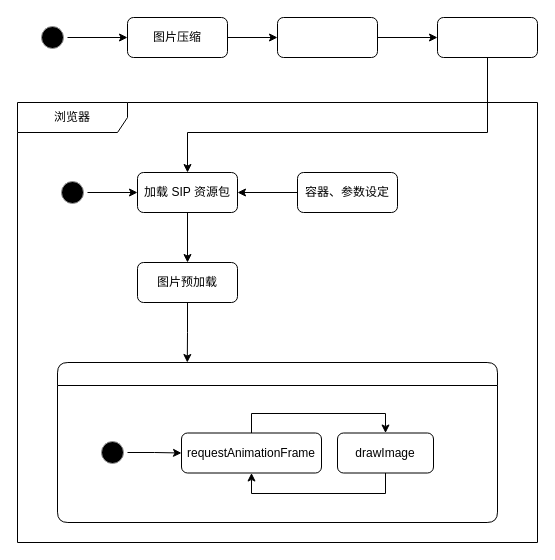
This 555x560 diagram has some shape labels left out. The shapes that lost their labels are listed below. From the top down, each one's box as (x1, y1, x2, y2) in pixels, then its label:
(276, 16, 378, 58): 上传 OSS
(436, 16, 538, 58): 获取图片地址
(56, 362, 498, 522): Container | Canvas
